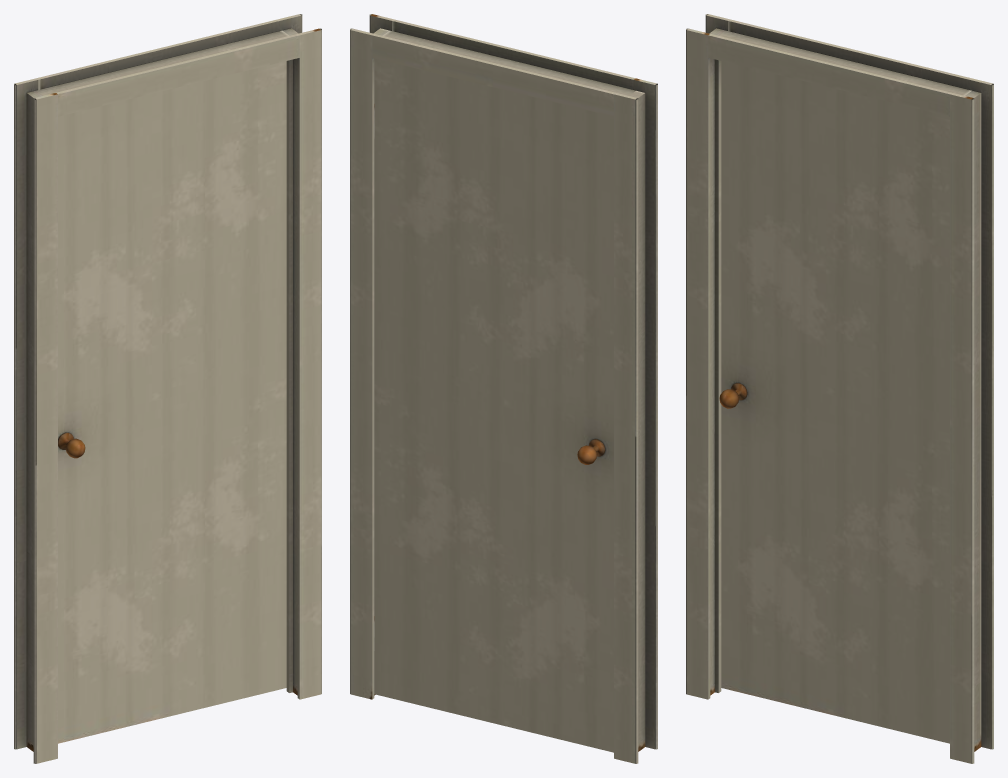
The model's file is door_flat_web.glb.
3 renders of one model, left to right at view 1: azimuth 30°, elevation 25°; view 2: azimuth 150°, elevation 25°; view 3: azimuth 330°, elevation 25°, orthographic.
Visible parts, largest first — view 1: Door_Mesh, DoorFlat_Frame; view 2: Door_Mesh, DoorFlat_Frame; view 3: Door_Mesh, DoorFlat_Frame.
Part boxes in pixels (x1=…): Door_Mesh: x1=58, y1=61, x2=286, y2=743; DoorFlat_Frame: x1=14, y1=14, x2=321, y2=763; Door_Mesh: x1=374, y1=58, x2=613, y2=752; DoorFlat_Frame: x1=350, y1=14, x2=657, y2=763; Door_Mesh: x1=719, y1=61, x2=949, y2=743; DoorFlat_Frame: x1=686, y1=14, x2=993, y2=763.
Size of the model in its own units: 0.9419 by 2.07 by 0.212.
1 material, 1 textured.
